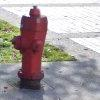a fire hydrant: (18, 9, 45, 86)
